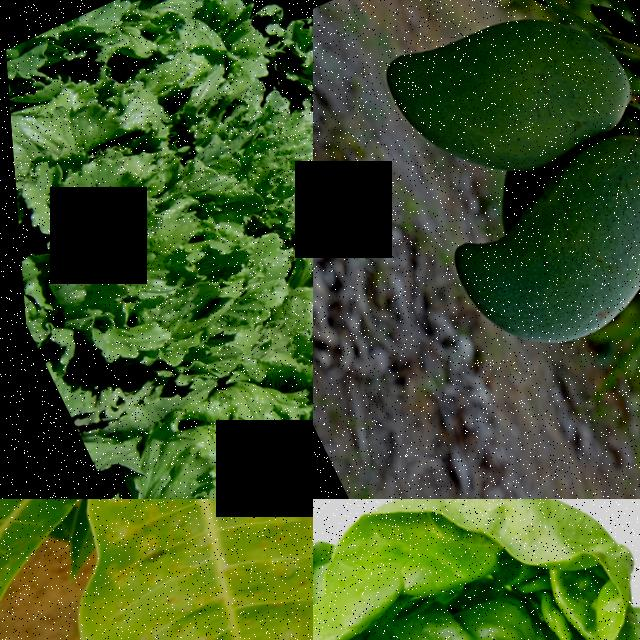lettuce: (313, 499, 640, 640), (66, 179, 231, 332), (102, 392, 275, 499), (6, 82, 135, 220), (152, 0, 279, 108), (239, 231, 313, 364), (226, 101, 313, 209), (283, 2, 313, 111)
mango: (364, 0, 640, 218), (422, 123, 640, 376)
